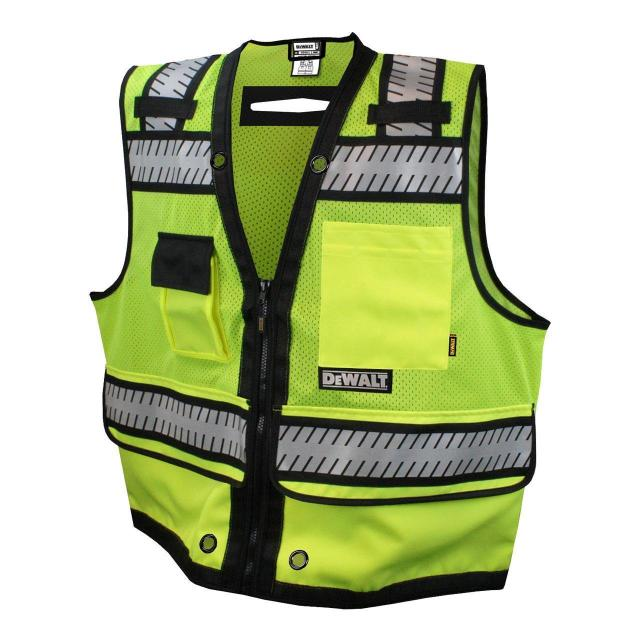Vest: (86, 32, 552, 612)
